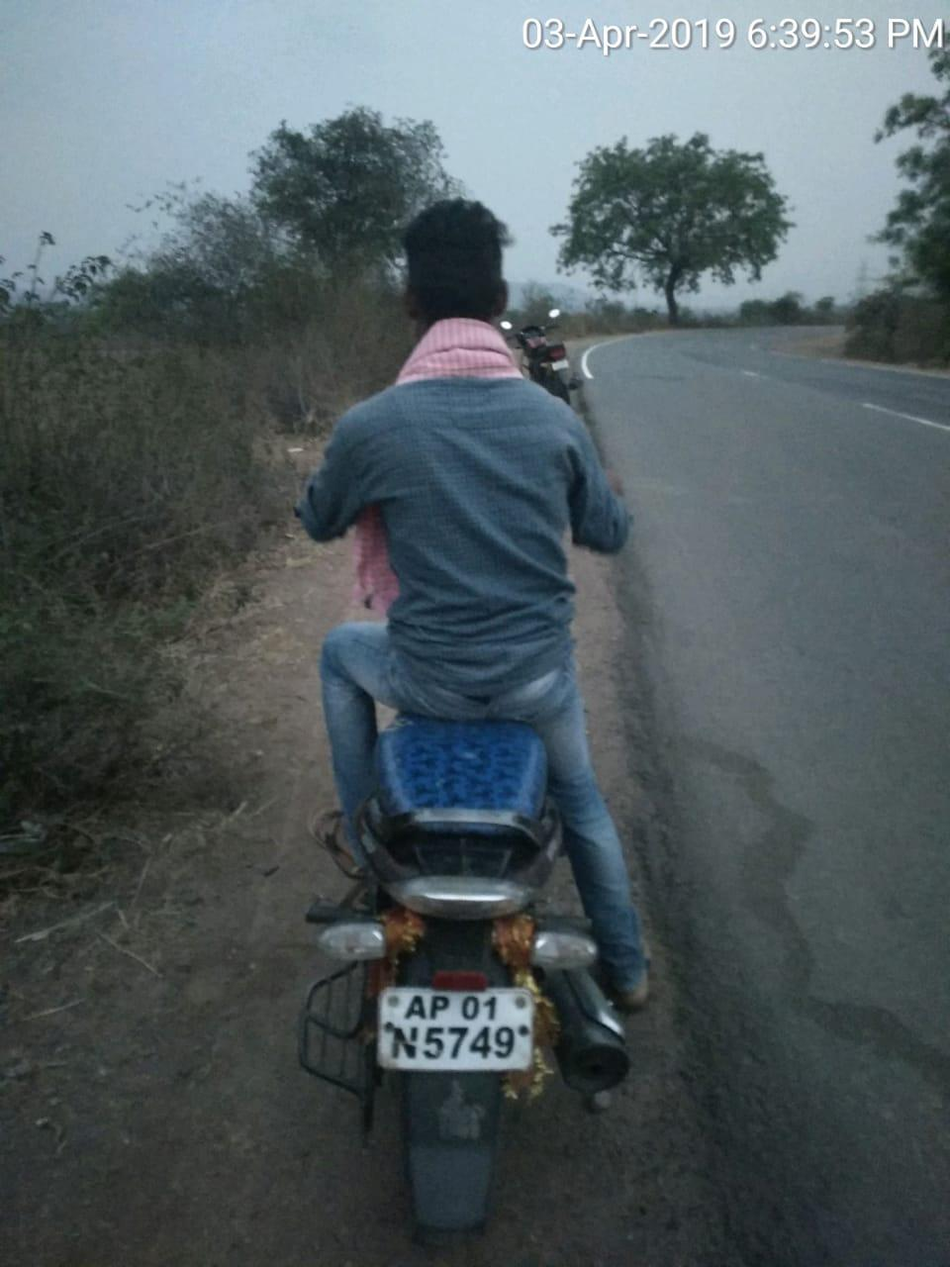plate: (365, 969, 549, 1091)
